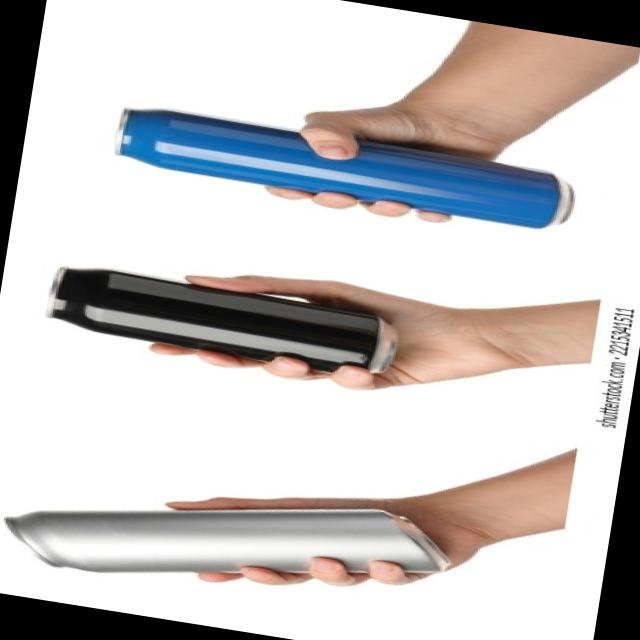soda_can: (82, 95, 587, 235), (28, 249, 424, 391), (0, 497, 470, 583)
